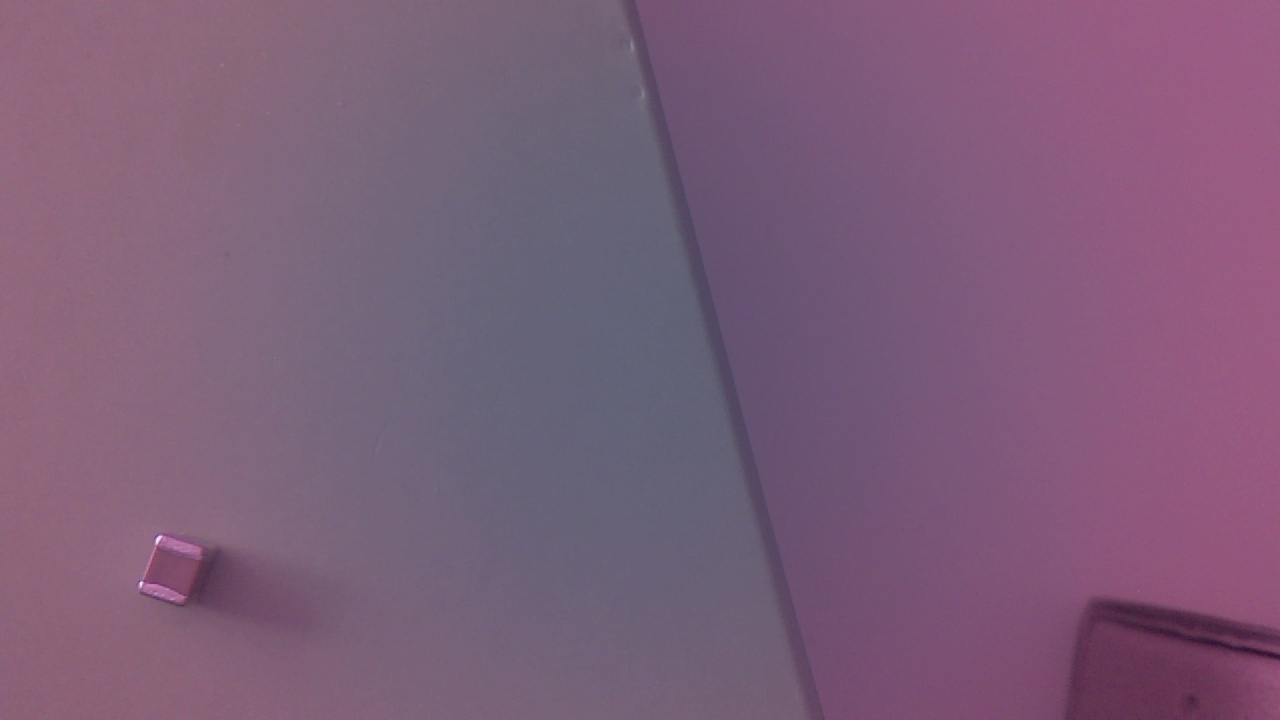Condensator: (137, 535, 219, 616)
